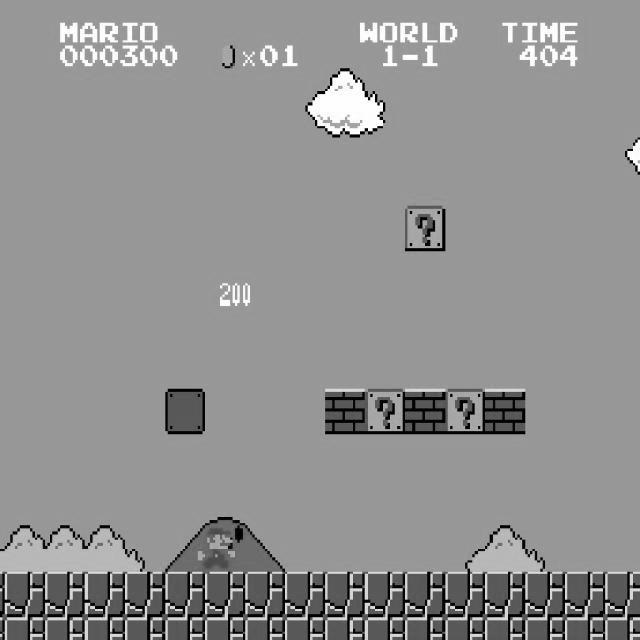1- brick_block: (324, 388, 366, 434), (404, 388, 446, 434), (484, 388, 526, 434)
11- little_mario: (195, 526, 238, 574)
13- mystery_block: (364, 388, 406, 434), (444, 388, 486, 434), (404, 206, 446, 251)
17- undestructible_block: (44, 572, 86, 618), (84, 572, 126, 618), (124, 572, 166, 618), (164, 572, 206, 618), (204, 572, 246, 618), (244, 572, 286, 618), (284, 572, 326, 618), (324, 572, 366, 618), (364, 572, 406, 618), (404, 572, 446, 618), (444, 572, 486, 618), (484, 572, 526, 618), (524, 572, 566, 618), (564, 572, 606, 618), (5, 572, 46, 618), (605, 572, 640, 618), (44, 617, 86, 640), (84, 617, 126, 640), (124, 617, 166, 640), (164, 617, 206, 640), (204, 617, 246, 640), (244, 617, 286, 640), (284, 617, 326, 640), (324, 617, 366, 640), (364, 617, 406, 640), (404, 617, 446, 640), (444, 617, 486, 640), (484, 617, 526, 640), (524, 617, 566, 640), (564, 617, 606, 640), (5, 617, 46, 640), (605, 617, 640, 640), (0, 572, 5, 618), (0, 617, 5, 640)
3- empty_block: (164, 388, 206, 434)
